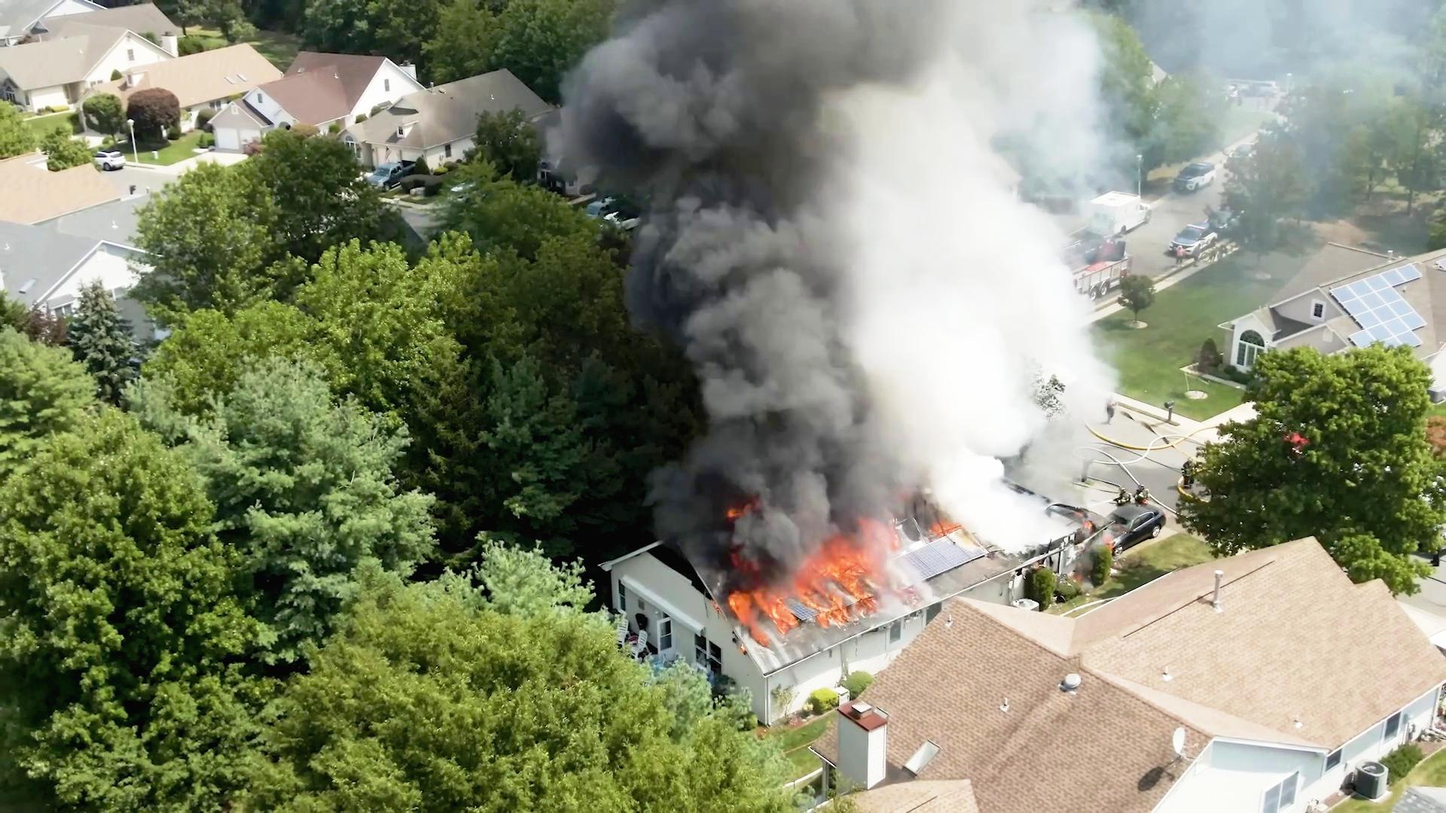fire: (740, 504, 876, 631)
smoke: (822, 18, 1096, 474), (680, 0, 942, 381)
